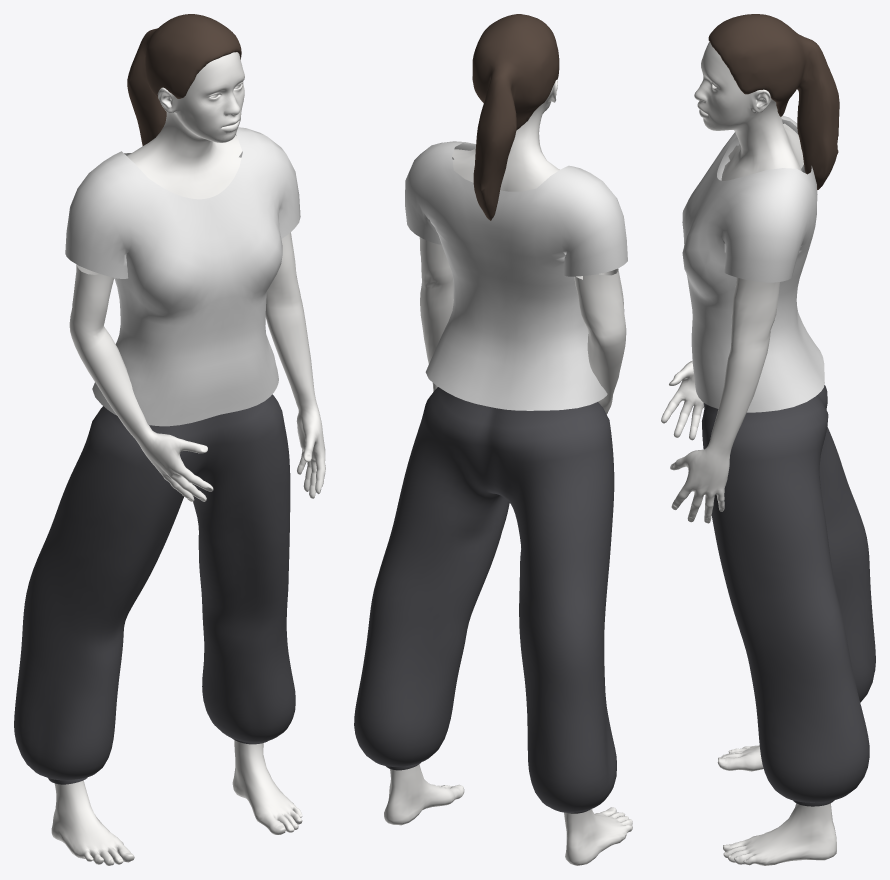
The model's file is mannequin-female-pocket.glb.
The picture shows the model from 3 angles, left to right: view 1: azimuth 30°, elevation 25°; view 2: azimuth 150°, elevation 25°; view 3: azimuth 270°, elevation 25°; orthographic projection. The views are drawn at different scales.
Visible parts, largest first — view 1: Pants, Shirt, Body, HairSculpt; view 2: Pants, Shirt, Body, HairSculpt; view 3: Pants, Shirt, Body, HairSculpt.
Part boxes in pixels (box(x1,y1,x2,y2)): Pants: box(14, 394, 295, 784); Shirt: box(65, 127, 300, 426); Body: box(51, 52, 325, 865); HairSculpt: box(127, 14, 241, 145); Pants: box(354, 387, 616, 813); Shirt: box(405, 141, 627, 410); Body: box(384, 76, 632, 865); HairSculpt: box(472, 14, 559, 220); Pants: box(702, 385, 875, 806); Shirt: box(682, 115, 824, 412); Body: box(661, 41, 836, 865); HairSculpt: box(708, 14, 839, 190).
Bounding box in the file's own units: 0.5404 × 1.66 × 0.4022.
